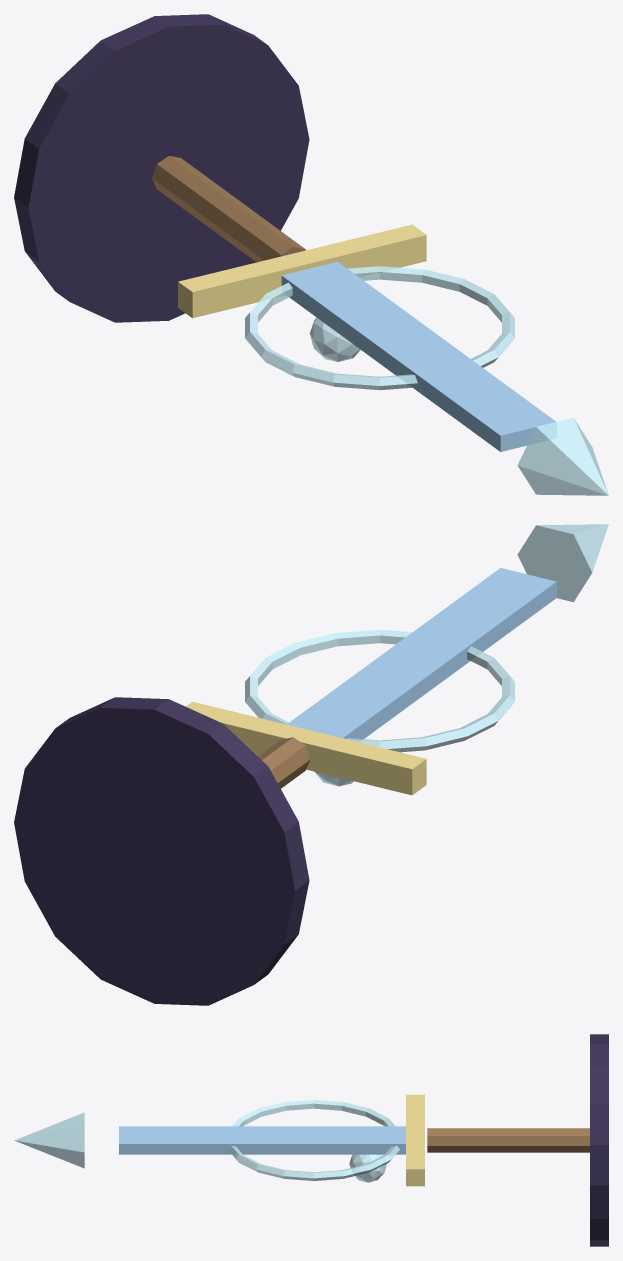
Rendered from 03_high_tier_magic_weapon.glb.
3 renders of one model, top to bottom at view 1: azimuth 30°, elevation 25°; view 2: azimuth 150°, elevation 25°; view 3: azimuth 270°, elevation 25°, orthographic. The views are drawn at different scales.
Parts seen in each view (by area): view 1: weapon_display_base, magic_blade_or_staff_core, relic_guard, weapon_aura_ring, weapon_grip, weapon_tip, socketed_gem; view 2: weapon_display_base, magic_blade_or_staff_core, relic_guard, weapon_aura_ring, weapon_tip, weapon_grip; view 3: magic_blade_or_staff_core, weapon_grip, weapon_display_base, weapon_aura_ring, weapon_tip, relic_guard, socketed_gem.
Boxes of the visible parts, x1=… form: weapon_display_base: x1=14, y1=14, x2=309, y2=322; magic_blade_or_staff_core: x1=281, y1=261, x2=556, y2=451; relic_guard: x1=178, y1=224, x2=426, y2=318; weapon_aura_ring: x1=245, y1=266, x2=514, y2=390; weapon_grip: x1=152, y1=156, x2=305, y2=262; weapon_tip: x1=517, y1=417, x2=608, y2=495; socketed_gem: x1=309, y1=317, x2=360, y2=361; weapon_display_base: x1=14, y1=697, x2=309, y2=1005; magic_blade_or_staff_core: x1=287, y1=568, x2=556, y2=741; relic_guard: x1=186, y1=701, x2=426, y2=795; weapon_aura_ring: x1=245, y1=629, x2=514, y2=752; weapon_tip: x1=517, y1=524, x2=608, y2=602; weapon_grip: x1=258, y1=737, x2=310, y2=788; magic_blade_or_staff_core: x1=119, y1=1126, x2=405, y2=1154; weapon_grip: x1=427, y1=1128, x2=589, y2=1152; weapon_display_base: x1=590, y1=1034, x2=608, y2=1246; weapon_aura_ring: x1=227, y1=1100, x2=399, y2=1180; weapon_tip: x1=14, y1=1112, x2=84, y2=1168; relic_guard: x1=406, y1=1094, x2=424, y2=1186; socketed_gem: x1=349, y1=1154, x2=386, y2=1182.
Bounding box in the file's own units: 0.9 × 0.9 × 2.52.
